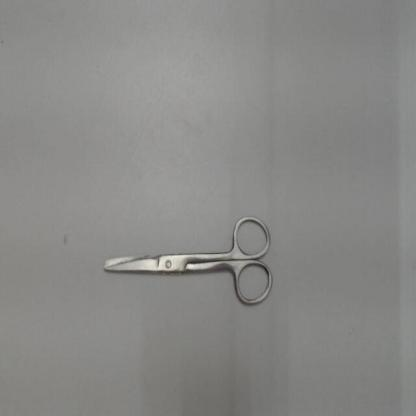Dressing Scissors: (90, 205, 283, 318)
